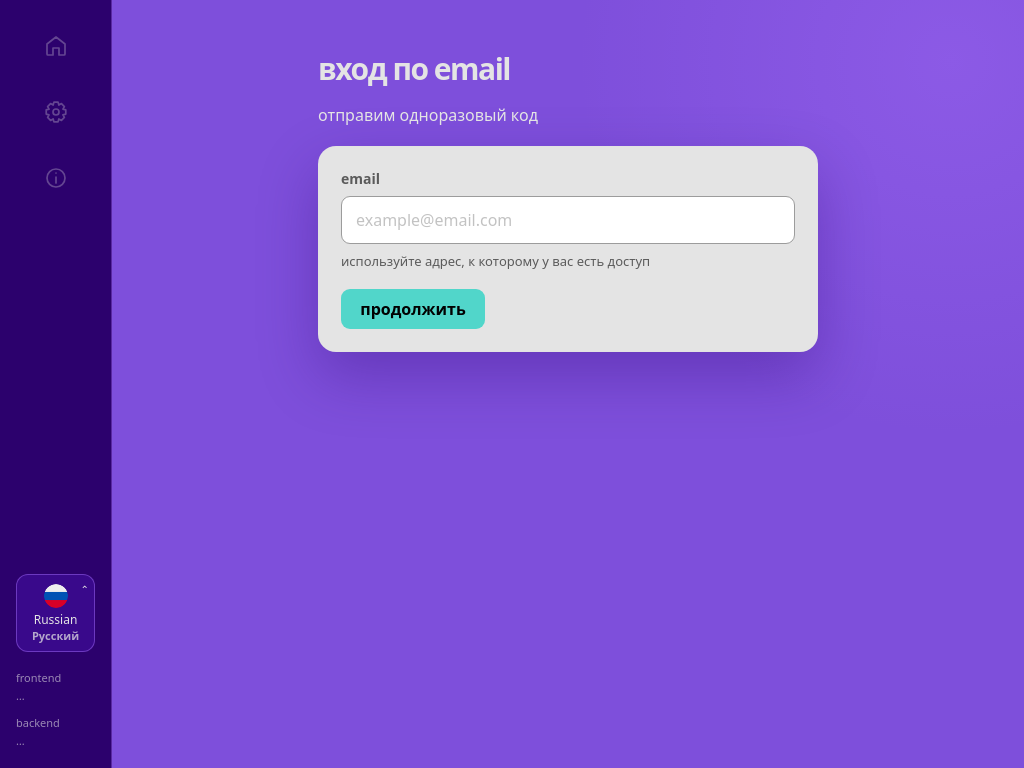
Test: email login › shows the NETWORK_ERROR state
Type "user@example.com" into the field labelled "Email".
click(568, 220); type("user@example.com")  # box x1=341 y1=196 x2=795 y2=244
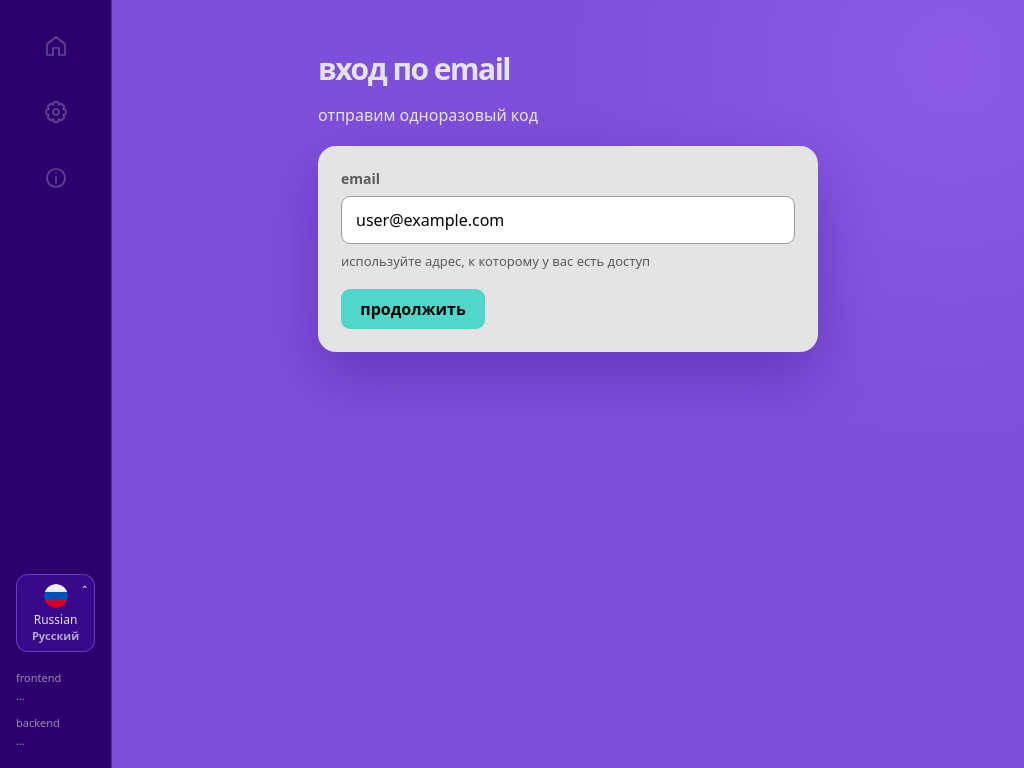
Click the button "продолжить".
click(413, 309)  # box x1=341 y1=289 x2=485 y2=329
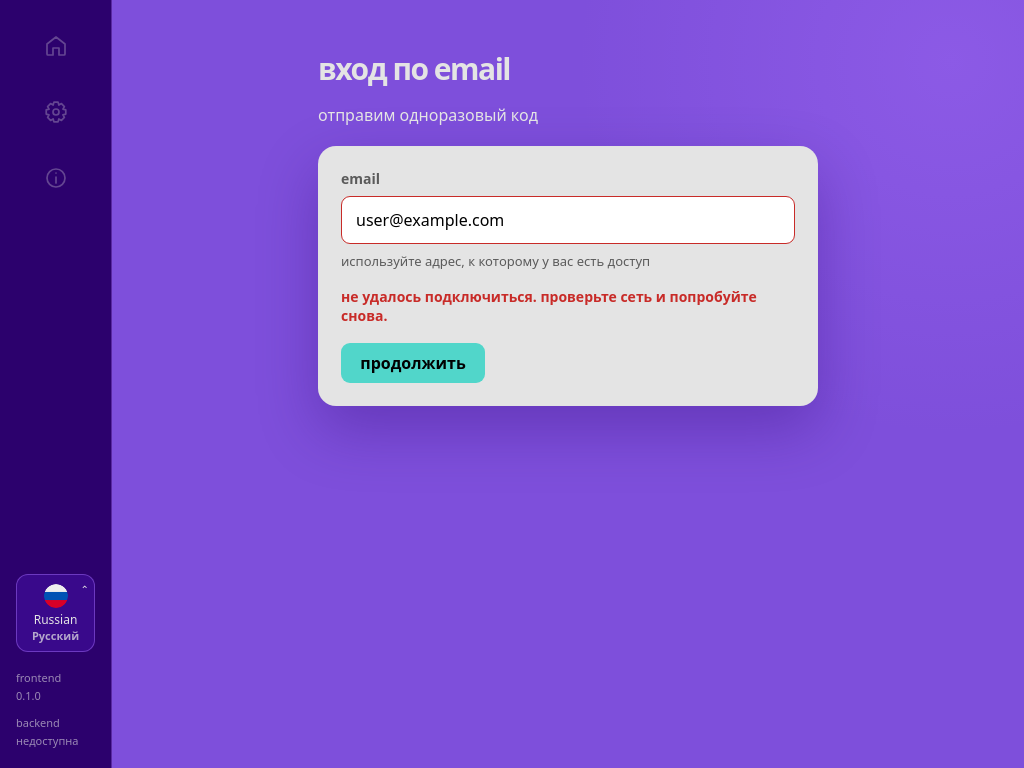
Expected: the button "продолжить" is enabled, x1=341 y1=343 x2=485 y2=383
Now the message reads "Не удалось подключиться. Проверьте сеть и попробуйте снова.", box x1=341 y1=287 x2=757 y2=325
